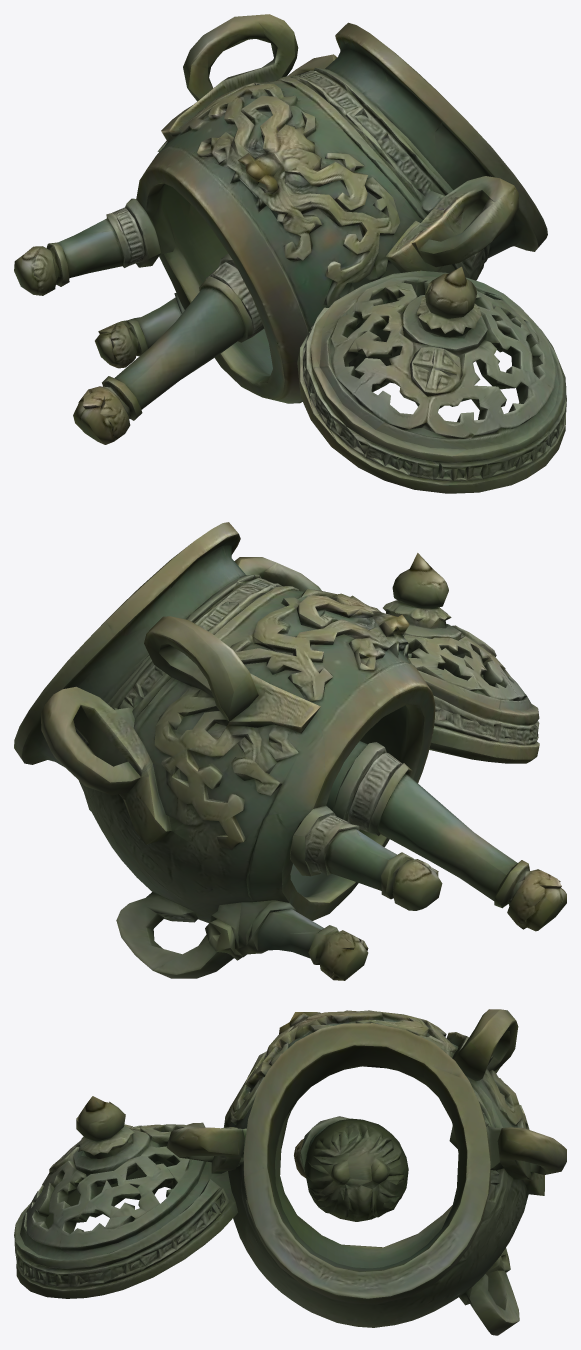
File: burner.glb
3 views of the same model, one above another, from view 1: azimuth 30°, elevation 25°; view 2: azimuth 150°, elevation 25°; view 3: azimuth 270°, elevation 25° (orthographic). The views are drawn at different scales.
Visible parts, largest first — view 1: model; view 2: model; view 3: model.
Part boxes in pixels (x1,y1,x2,y2): model: [14, 14, 566, 493]; model: [14, 522, 566, 980]; model: [14, 1009, 566, 1335].
Bounding box in the file's own units: 1.71 × 1.24 × 1.9.
Materials: 1 (1 with a texture image).
